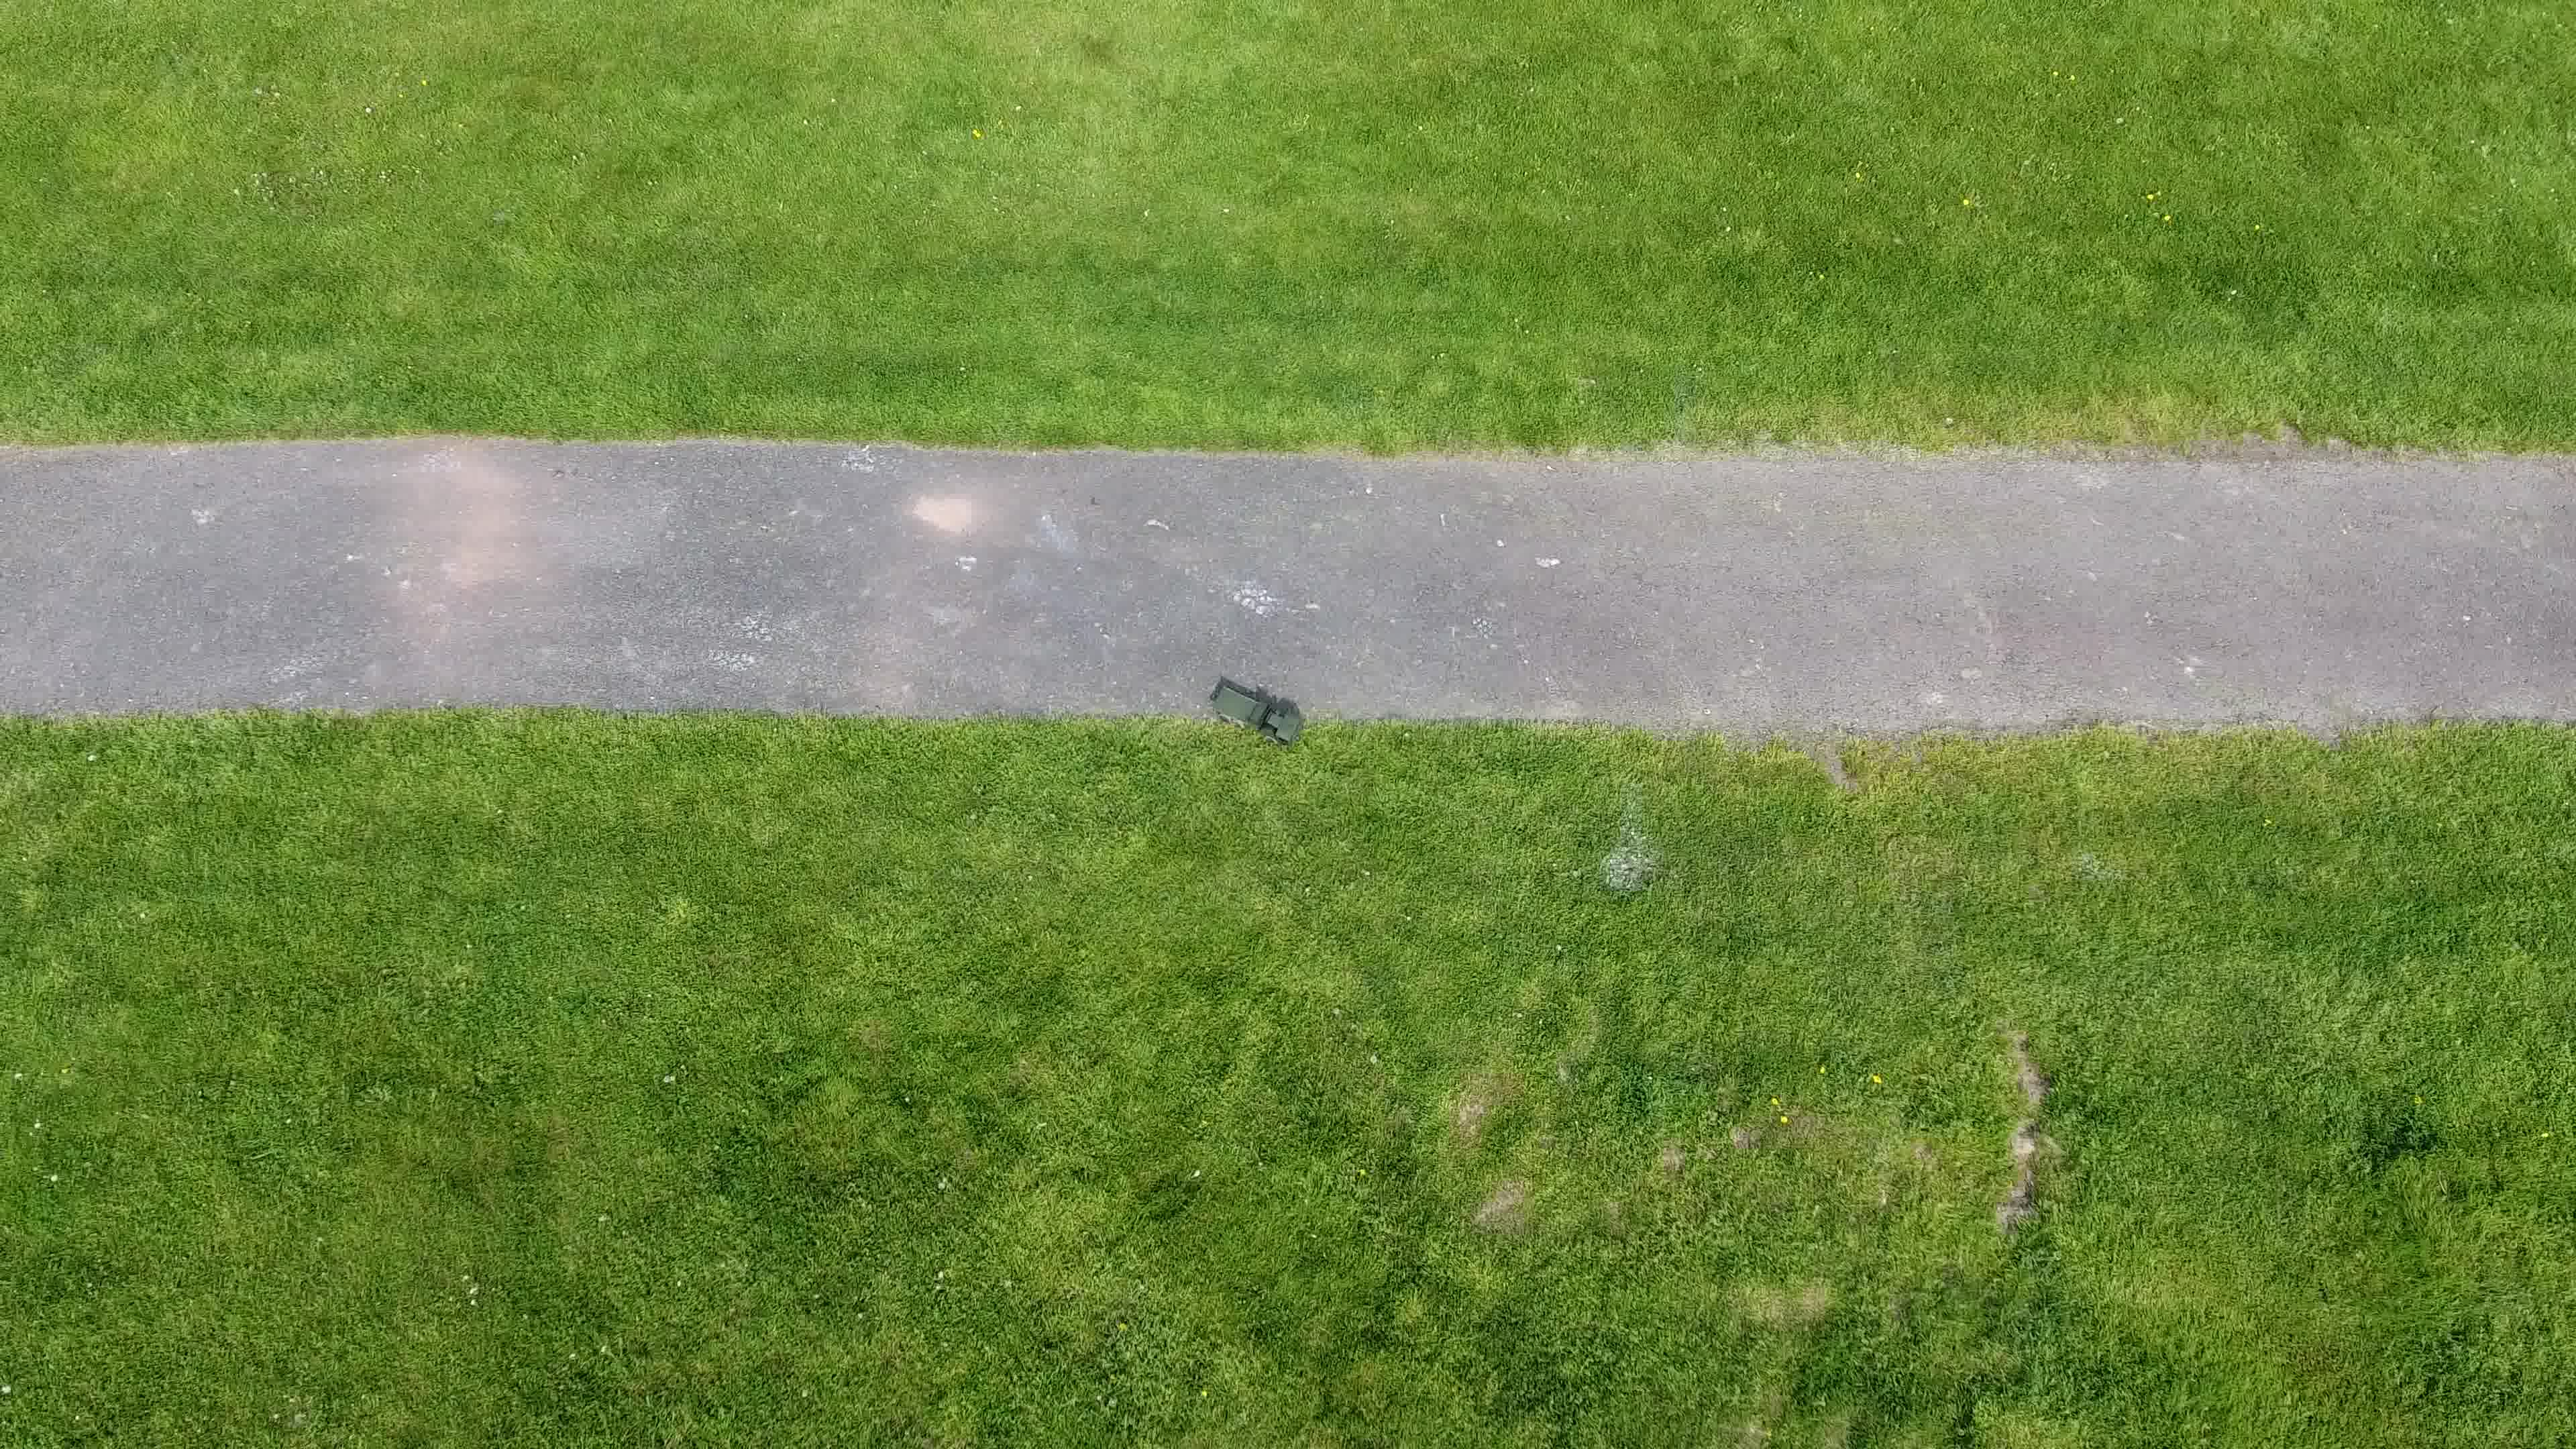transporter9: (1205, 678, 1304, 750)
